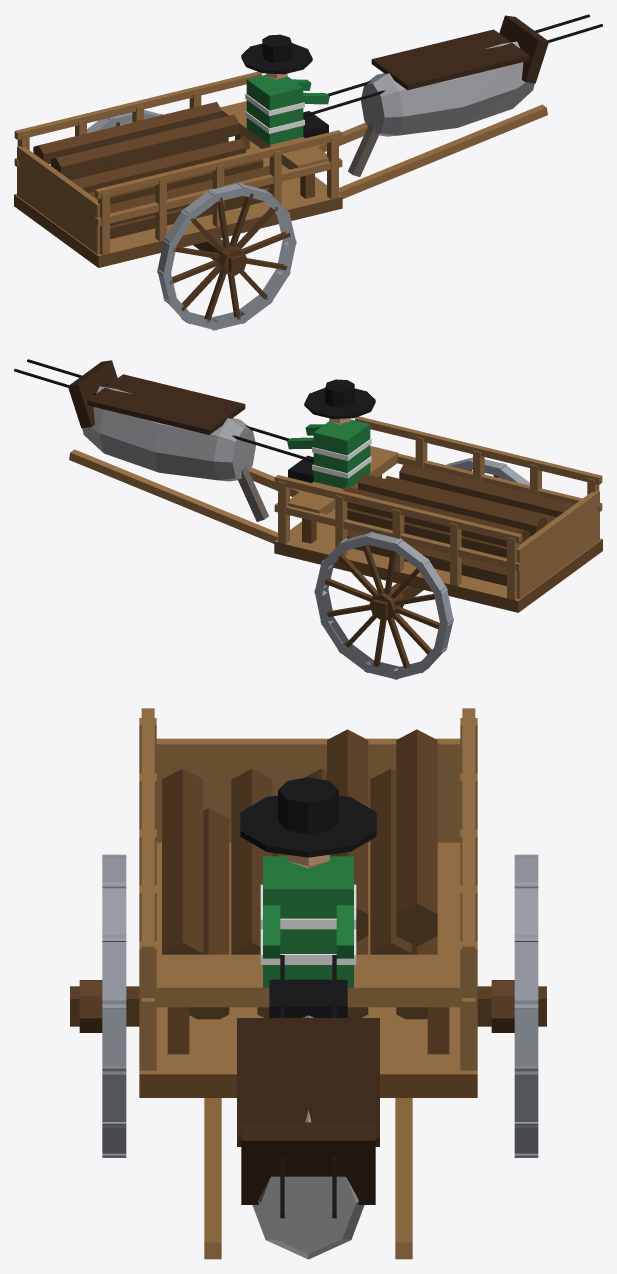
File: carreta_tordillo_body.obj
3 views of the same model, one above another, from view 1: azimuth 30°, elevation 25°; view 2: azimuth 150°, elevation 25°; view 3: azimuth 270°, elevation 25° (orthographic). The views are drawn at different scales.
Visible parts, largest first — view 1: carreta_tordillo_body; view 2: carreta_tordillo_body; view 3: carreta_tordillo_body.
Boxes of the visible parts, box(x1,y1,x2,y2) form: carreta_tordillo_body: box(14, 14, 602, 330); carreta_tordillo_body: box(14, 359, 602, 679); carreta_tordillo_body: box(70, 708, 546, 1259).
Bounding box in the file's own units: 5.75 × 2.29 × 2.2.
